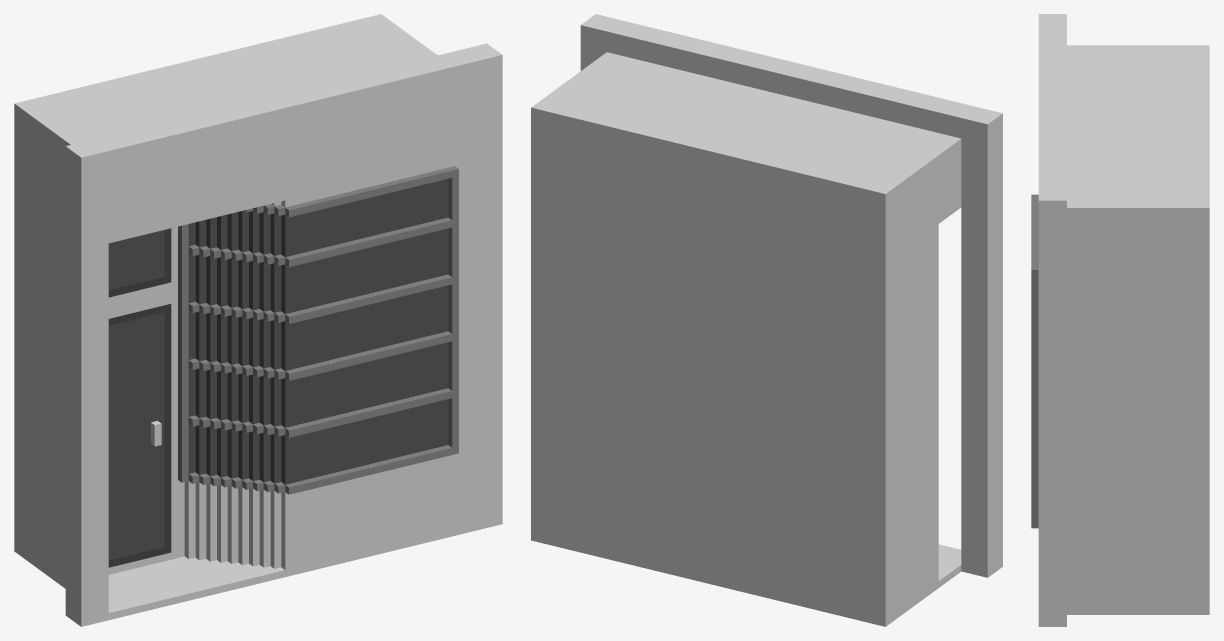
File: whiteOne.glb
The picture shows the model from 3 angles, left to right: view 1: azimuth 30°, elevation 25°; view 2: azimuth 150°, elevation 25°; view 3: azimuth 270°, elevation 25°; orthographic projection. The views are drawn at different scales.
Parts seen in each view (by area): view 1: ObjObject; view 2: ObjObject; view 3: ObjObject.
Part boxes in pixels (left/top/right/bottom): ObjObject: left=14, top=14, right=502, bottom=626; ObjObject: left=531, top=14, right=1002, bottom=626; ObjObject: left=1031, top=14, right=1209, bottom=626.
Size of the model in its own units: 6.2 by 6.6 by 2.5.
1 material, 1 textured.
